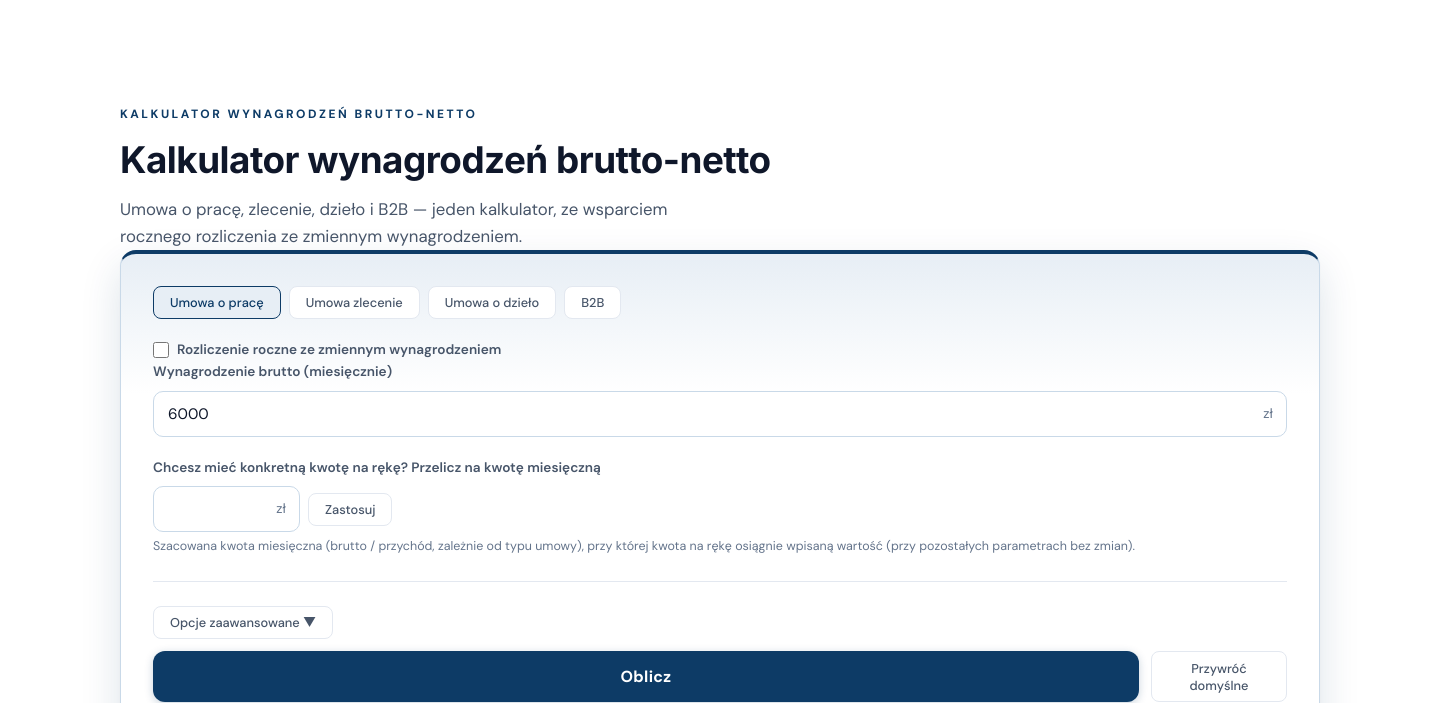
Test: SalaryCalculator hourly-rate helper (render) › warns when the entered hourly rate is below the statutory minimum (31.40 zł/h in 2026)
Click the button "Umowa zlecenie" at (354, 303), box [289,286,420,319]
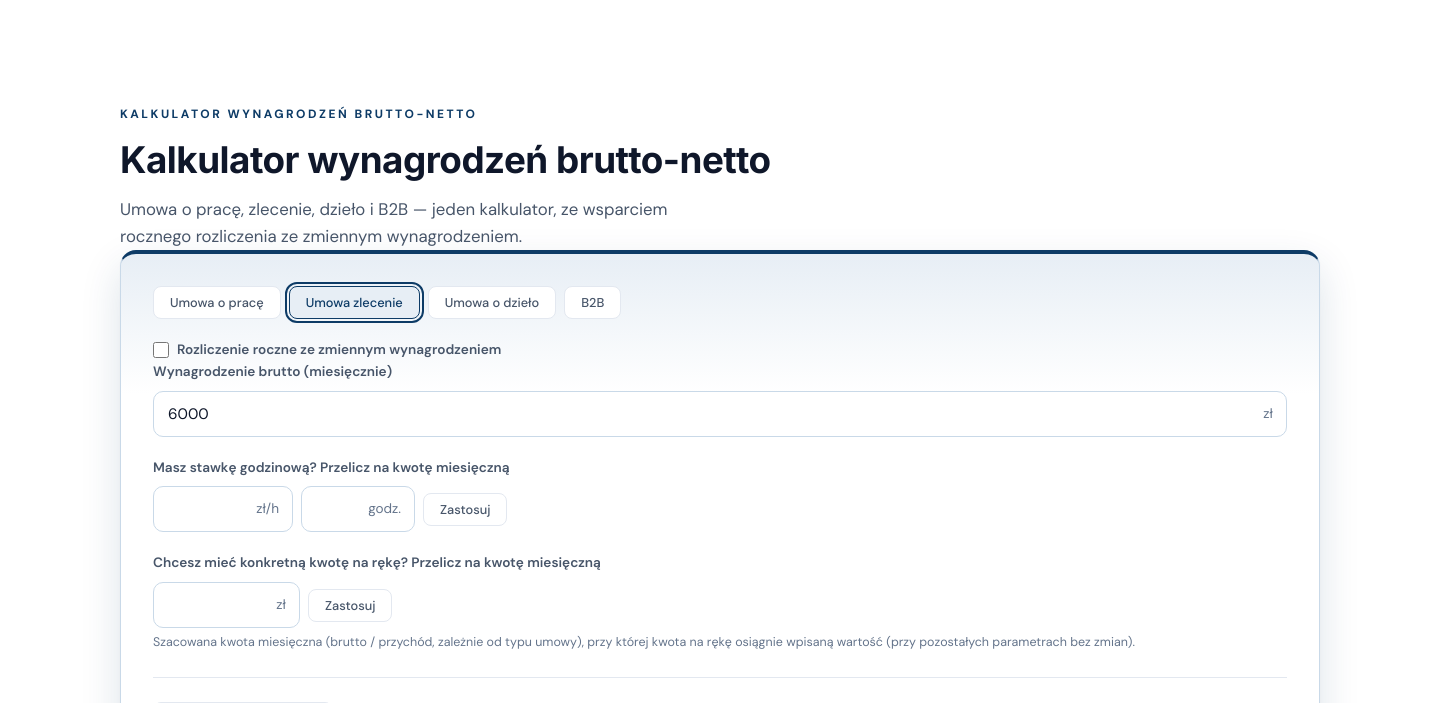
Expected: the text "minimalna stawka godzinowa" is not shown
Type "20" into the number field named "stawka godzinowa" at (223, 509), box [153,486,293,532]
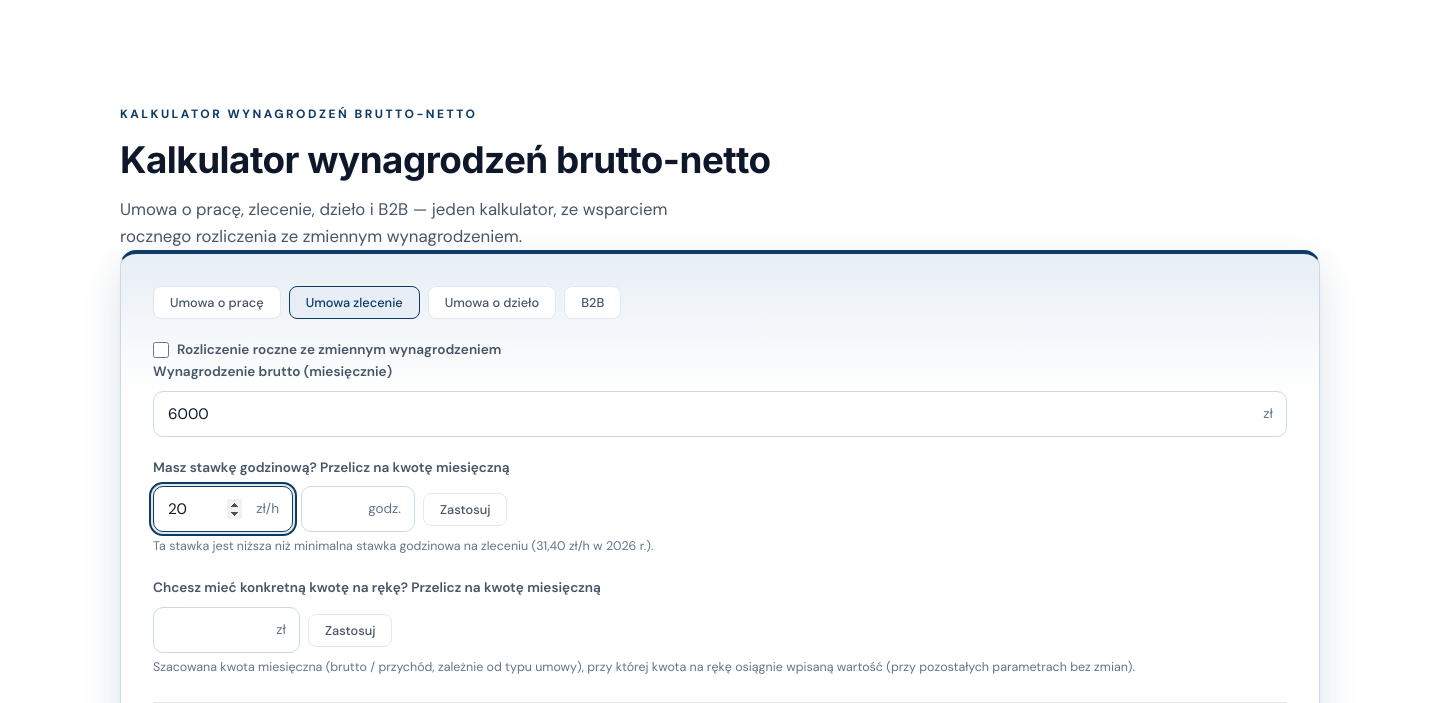
Expected: the text "minimalna stawka godzinowa" is shown, [153,538,653,554]
